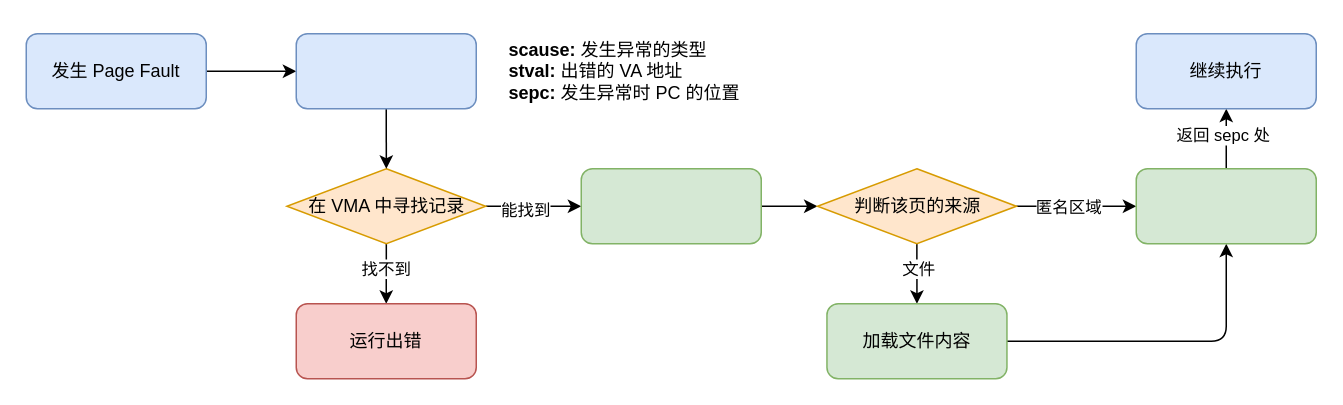
This 1343x405 diagram has some shape labels left out. The shapes that lost their labels are listed below. From the top down, each one's centre as x and y in pixels, then its label:
point 385,70: 进入 trap_handler
point 670,205: 分配一个新的物理页
point 1225,205: 在页表中完成映射
